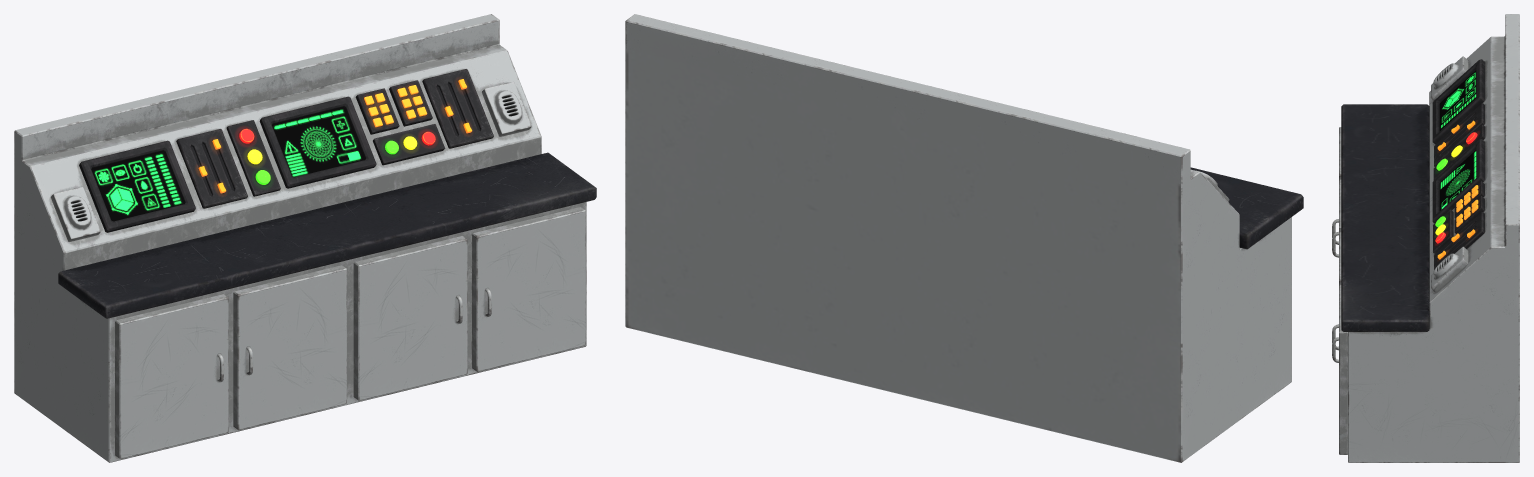
The model's file is sci-fi_desk.glb.
3 renders of one model, left to right at view 1: azimuth 30°, elevation 25°; view 2: azimuth 150°, elevation 25°; view 3: azimuth 270°, elevation 25°, orthographic. The views are drawn at different scales.
Visible parts, largest first — view 1: pCube1, doors, pCube2, pPlane1 (×2), pCube13 (×2), pCube3 (×2), pCube18 (×2), pCube5 (×2), pCube20, pCube21; view 2: pCube1, pCube2; view 3: pCube1, pCube2, pCube3 (×2), pPlane1 (×2), doors, pCube13 (×2), pCube18 (×2), pCube21, pCube20, pCube5 (×2), pCylinder4 (×2), pCube9 (×2).
Boxes of the visible parts, box(x1,y1,x2,y2) form: pCube1: box(14, 14, 586, 462); doors: box(115, 207, 585, 458); pCube2: box(58, 152, 596, 318); pPlane1 (×2): box(91, 107, 365, 221); pCube13 (×2): box(176, 69, 493, 208); pCube3 (×2): box(79, 96, 376, 232); pCube18 (×2): box(226, 120, 445, 196); pCube5 (×2): box(355, 80, 432, 134); pCube20: box(51, 187, 100, 241); pCube21: box(482, 82, 531, 136); pCube1: box(625, 14, 1291, 462); pCube2: box(1190, 167, 1303, 249); pCube1: box(1348, 14, 1519, 462); pCube2: box(1341, 104, 1429, 331); pCube3 (×2): box(1432, 59, 1485, 223); pPlane1 (×2): box(1439, 70, 1476, 210); doors: box(1332, 127, 1347, 454); pCube13 (×2): box(1434, 103, 1484, 269); pCube18 (×2): box(1433, 125, 1485, 253); pCube21: box(1431, 246, 1468, 292); pCube20: box(1431, 56, 1468, 100); pCube5 (×2): box(1454, 181, 1484, 233); pCylinder4 (×2): box(1435, 132, 1477, 243); pCube9 (×2): box(1456, 185, 1478, 226).
Size of the model in its own units: 8.23 by 4.22 by 3.01.
Materials: 1 (1 with a texture image).
